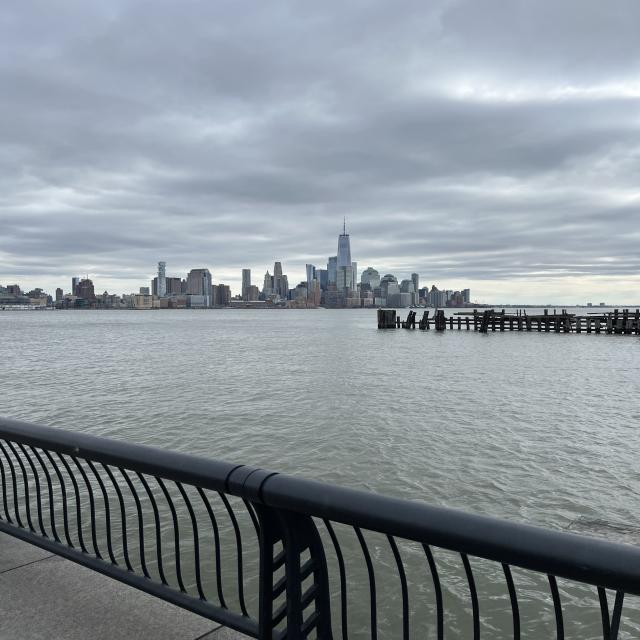WTC: (336, 216, 352, 268)
